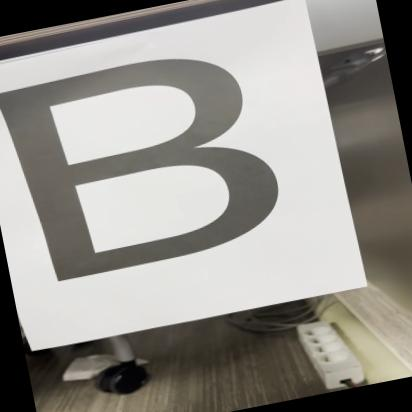seat: (0, 27, 303, 303)
